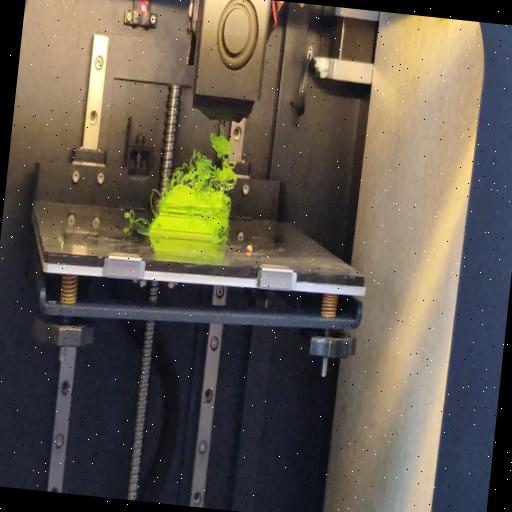spaghetti: (167, 122, 241, 198), (146, 184, 161, 217), (124, 208, 150, 226), (216, 228, 230, 244)
